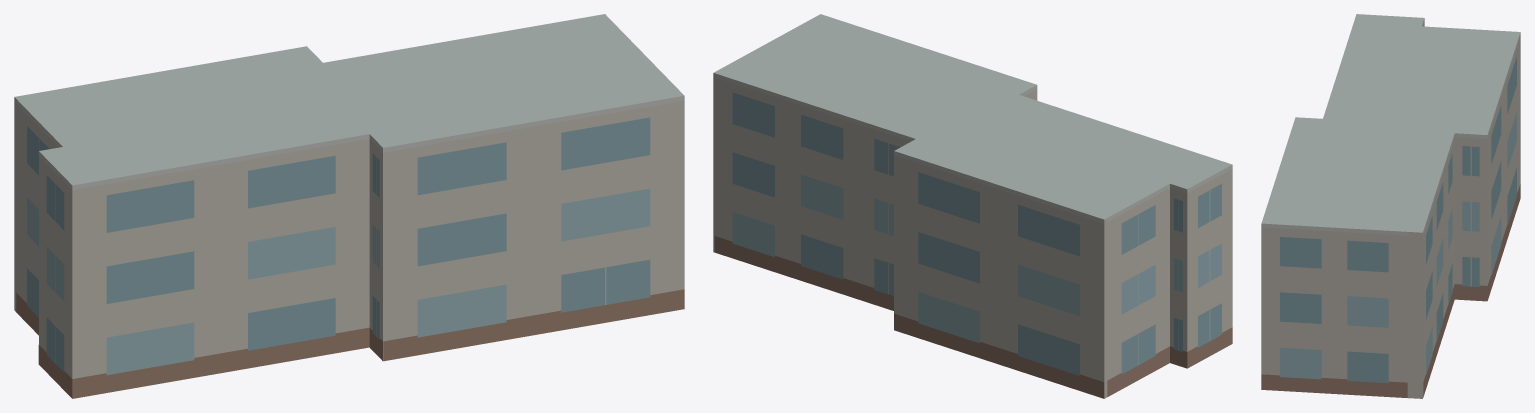
Rendered from survey-upis-32474423.glb.
3 renders of one model, left to right at view 1: azimuth 30°, elevation 25°; view 2: azimuth 150°, elevation 25°; view 3: azimuth 270°, elevation 25°, orthographic. The views are drawn at different scales.
Visible parts, largest first — view 1: survey-upis-32474423.tmp; view 2: survey-upis-32474423.tmp; view 3: survey-upis-32474423.tmp.
Part boxes in pixels (x1,y1,x2,y2): survey-upis-32474423.tmp: (14,14,684,398); survey-upis-32474423.tmp: (713,14,1232,398); survey-upis-32474423.tmp: (1261,14,1520,398).
Size of the model in its own units: 29.91 by 10.6 by 14.99.
